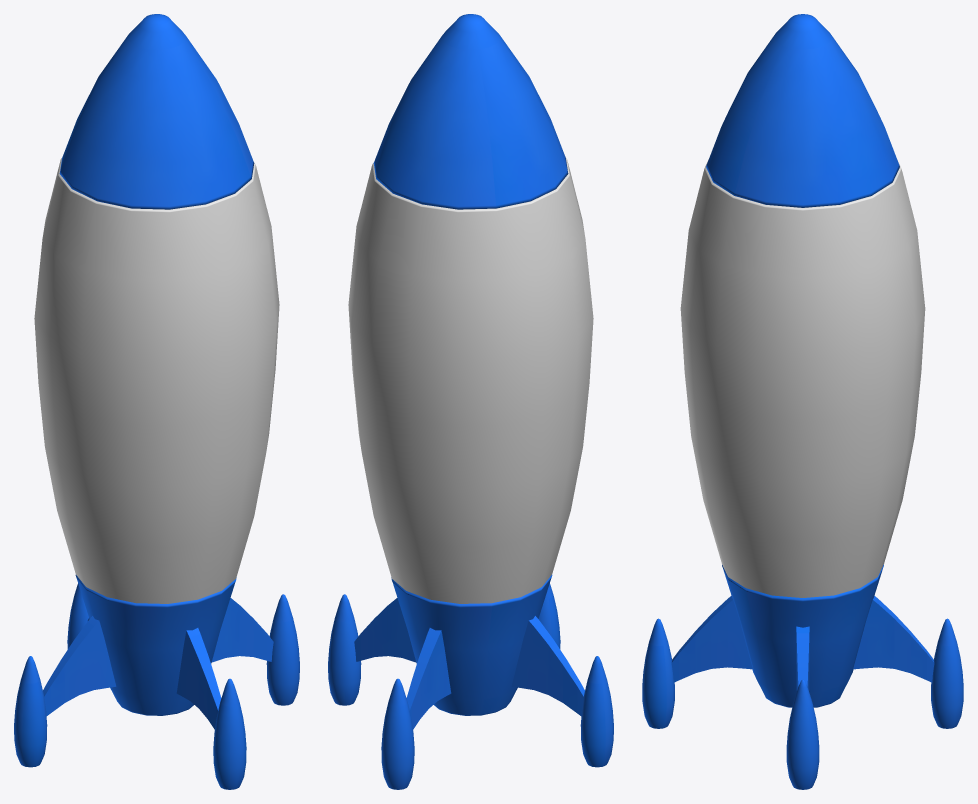
Rendered from ToyRocketBlue.fbx.
The picture shows the model from 3 angles, left to right: view 1: azimuth 30°, elevation 25°; view 2: azimuth 150°, elevation 25°; view 3: azimuth 270°, elevation 25°; orthographic projection.
Visible parts, largest first — view 1: Rocket, RocketCaps; view 2: Rocket, RocketCaps; view 3: Rocket, RocketCaps.
Part boxes in pixels (x1,y1,x2,y2): Rocket: [34, 158, 279, 603]; RocketCaps: [14, 14, 299, 789]; Rocket: [348, 158, 593, 603]; RocketCaps: [328, 14, 613, 789]; Rocket: [680, 159, 925, 597]; RocketCaps: [642, 14, 963, 789].
Bounding box in the file's own units: 3.11 × 7.56 × 3.11.
